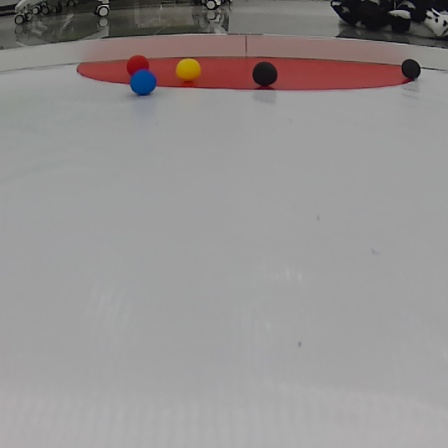black: (253, 60, 278, 86), (399, 59, 422, 79)
blue: (134, 70, 156, 96)
red: (126, 52, 149, 76)
red_base: (74, 55, 424, 92)
yellow: (176, 60, 204, 82)
